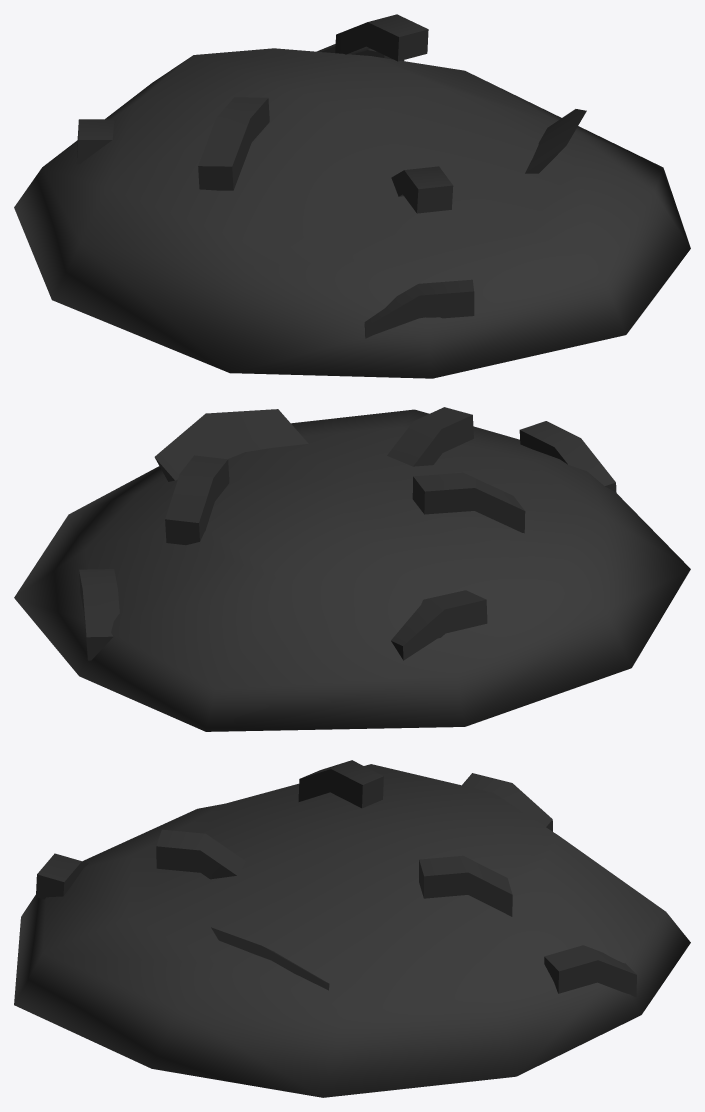
File: AshPile.fbx
3 views of the same model, one above another, from view 1: azimuth 30°, elevation 25°; view 2: azimuth 150°, elevation 25°; view 3: azimuth 270°, elevation 25° (orthographic). The views are drawn at different scales.
Visible parts, largest first — view 1: AshPile; view 2: AshPile; view 3: AshPile.
Boxes of the visible parts, box(x1,y1,x2,y2) form: AshPile: box(14, 14, 690, 378); AshPile: box(14, 407, 690, 731); AshPile: box(14, 760, 690, 1097).
Size of the model in its own units: 0.3414 by 0.08 by 0.3536.
